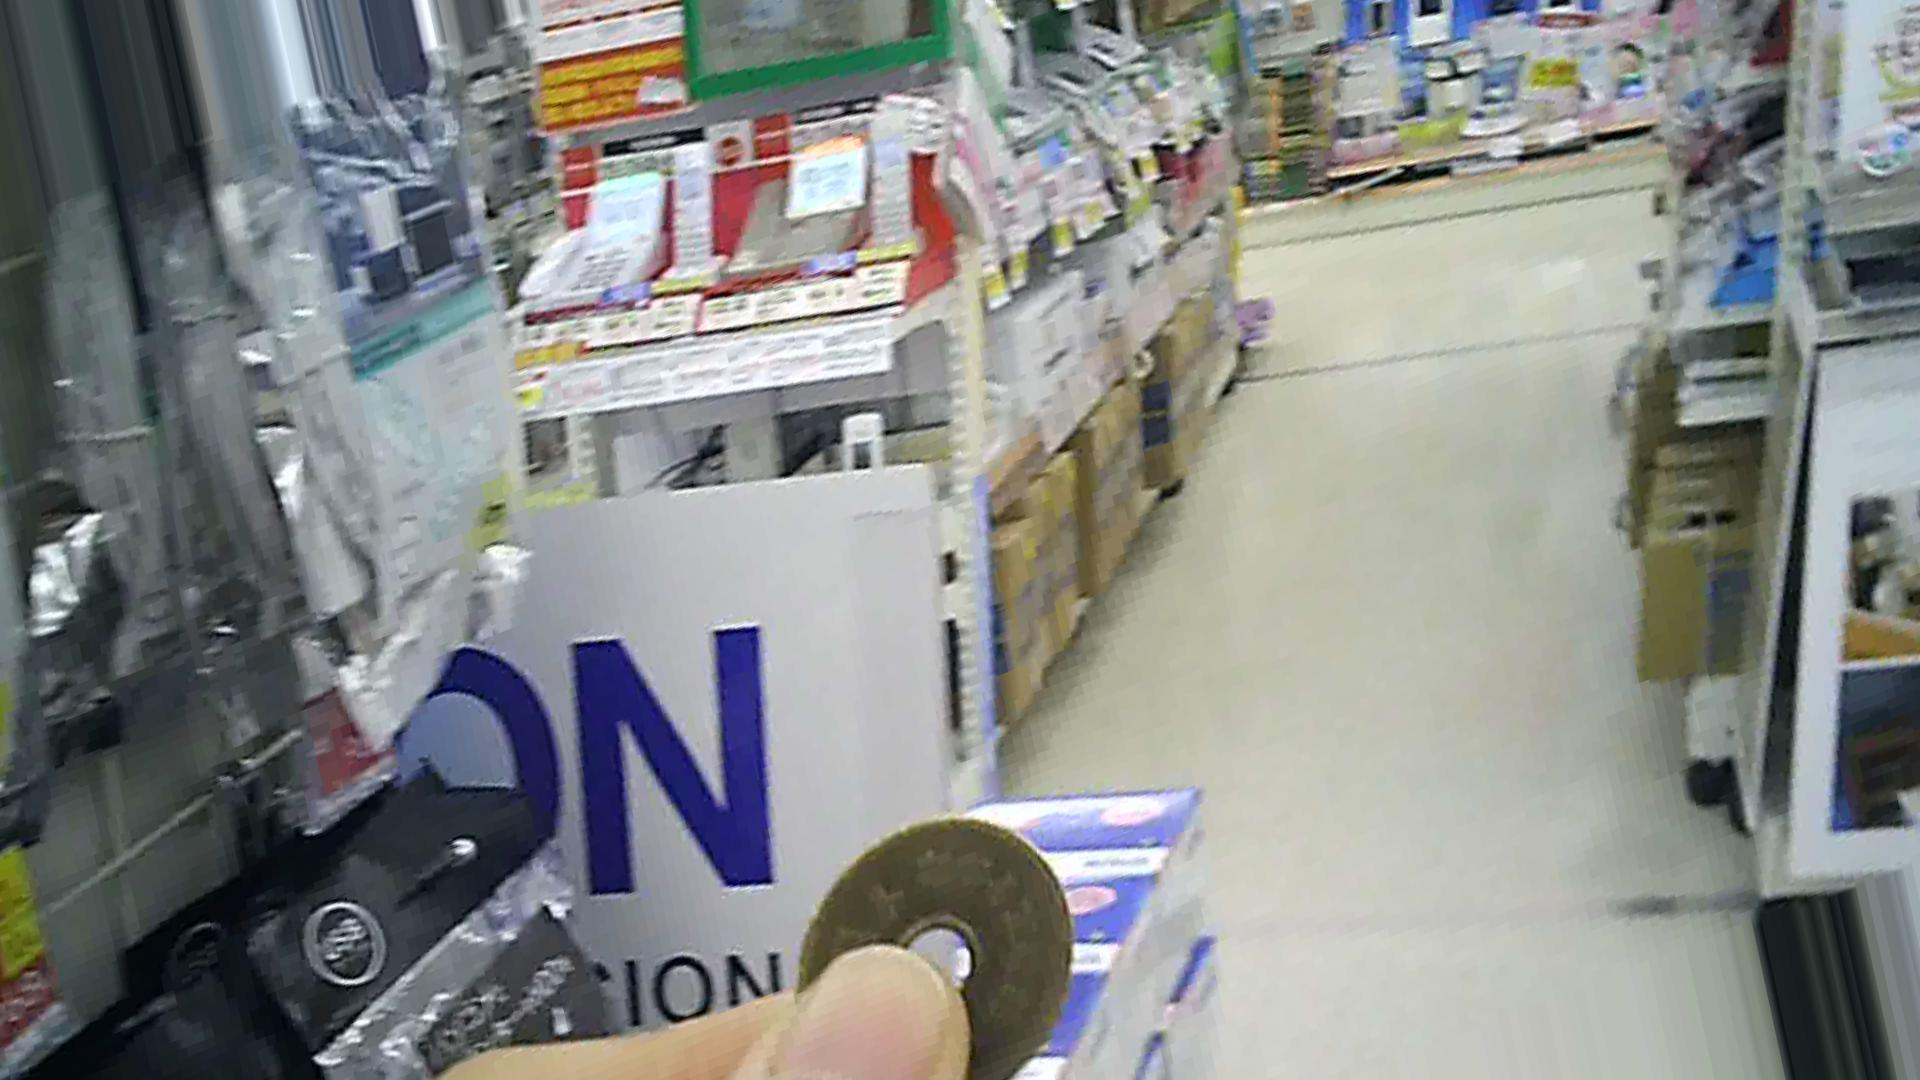5 Yen: (793, 827, 1072, 1079)
